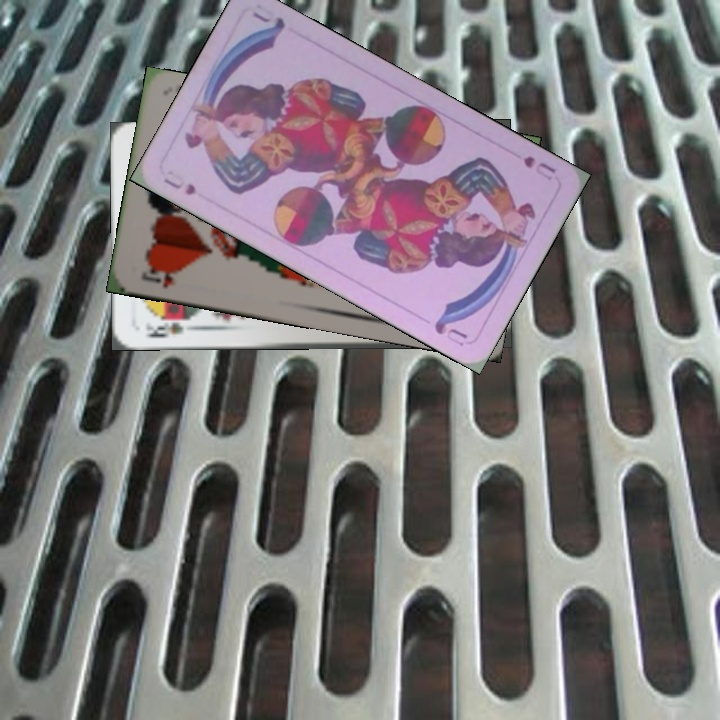HO: (138, 263, 185, 290)
SK: (141, 314, 193, 341)
SU: (519, 151, 559, 183), (159, 171, 199, 198)
